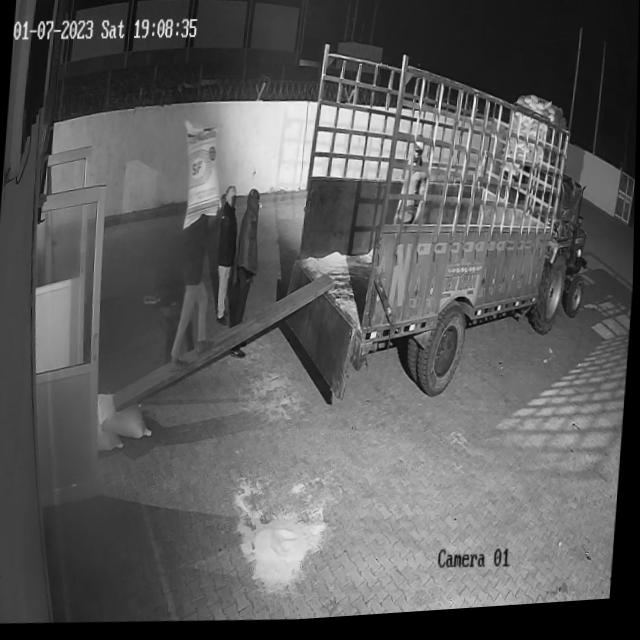sack: (179, 121, 229, 233), (97, 391, 158, 443)
